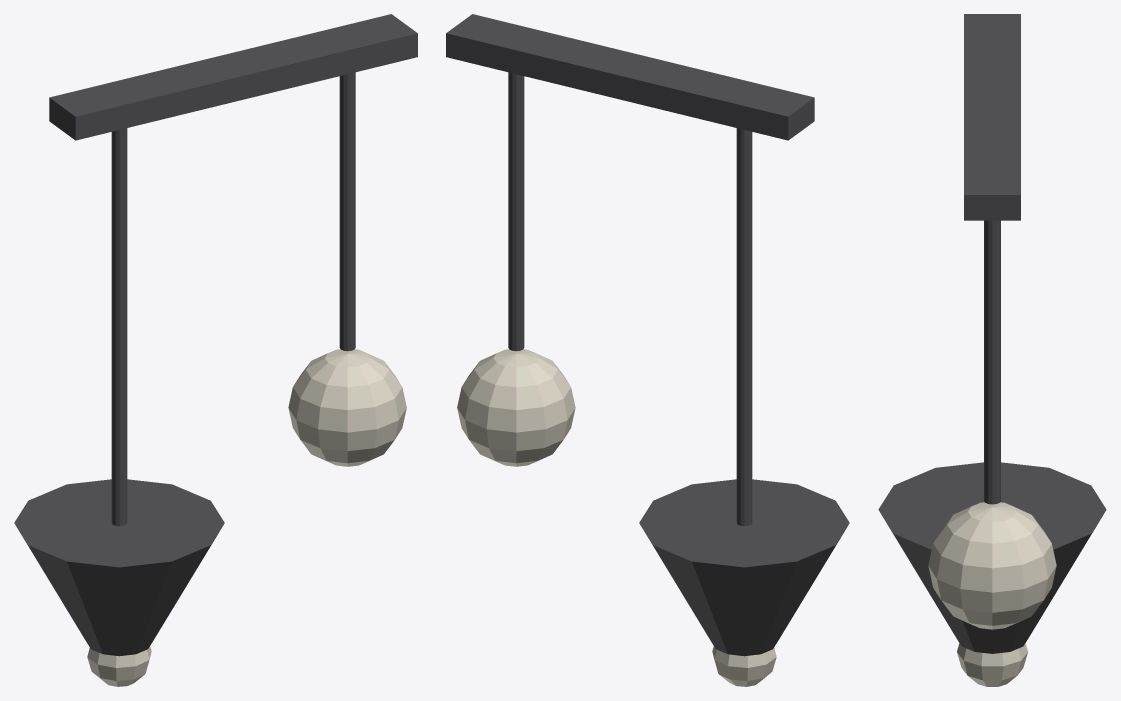
The model's file is ilu_pendente_duplo2.glb.
The picture shows the model from 3 angles, left to right: view 1: azimuth 30°, elevation 25°; view 2: azimuth 150°, elevation 25°; view 3: azimuth 270°, elevation 25°; orthographic projection. The views are drawn at different scales.
Parts seen in each view (by area): view 1: ILU_Pendente_Duplo2_v01; view 2: ILU_Pendente_Duplo2_v01; view 3: ILU_Pendente_Duplo2_v01.
Boxes of the visible parts, box(x1,y1,x2,y2) form: ILU_Pendente_Duplo2_v01: box(14, 14, 417, 686); ILU_Pendente_Duplo2_v01: box(446, 14, 849, 686); ILU_Pendente_Duplo2_v01: box(878, 14, 1106, 686).
Bounding box in the file's own units: 0.66 × 0.99 × 0.32.
